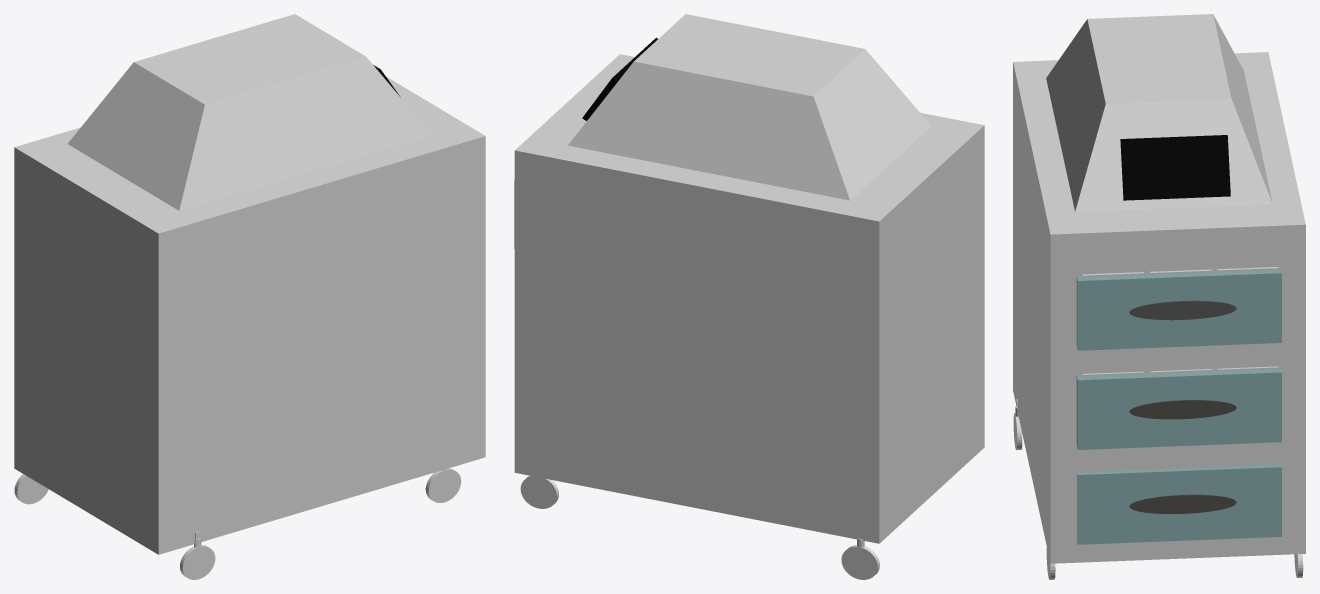
Rendered from carrello3.glb.
The picture shows the model from 3 angles, left to right: view 1: azimuth 30°, elevation 25°; view 2: azimuth 150°, elevation 25°; view 3: azimuth 270°, elevation 25°; orthographic projection. The views are drawn at different scales.
Parts seen in each view (by area): view 1: Carrello, CoperchioPiramide, RuotaCompleta4, RuotaCompleta2, RuotaCompleta3; view 2: Carrello, CoperchioPiramide, RuotaCompleta3, RuotaCompleta1; view 3: Carrello, CoperchioPiramide, Cassetto3, Cassetto2, Cassetto1, TabletIncastro, Maniglia2, Maniglia1, Maniglia3.
Part boxes in pixels (left/top/right/bottom): Carrello: left=14, top=76, right=485, bottom=554; CoperchioPiramide: left=68, top=14, right=431, bottom=210; RuotaCompleta4: left=180, top=531, right=215, bottom=579; RuotaCompleta2: left=425, top=468, right=461, bottom=502; RuotaCompleta3: left=14, top=474, right=48, bottom=504; Carrello: left=514, top=54, right=984, bottom=543; CoperchioPiramide: left=568, top=14, right=931, bottom=200; RuotaCompleta3: left=841, top=538, right=879, bottom=579; RuotaCompleta1: left=520, top=475, right=558, bottom=508; Carrello: left=1013, top=52, right=1305, bottom=563; CoperchioPiramide: left=1046, top=14, right=1272, bottom=211; Cassetto3: left=1076, top=268, right=1281, bottom=350; Cassetto2: left=1076, top=367, right=1281, bottom=449; Cassetto1: left=1077, top=464, right=1281, bottom=544; TabletIncastro: left=1120, top=135, right=1230, bottom=200; Maniglia2: left=1129, top=400, right=1236, bottom=419; Maniglia1: left=1129, top=494, right=1236, bottom=514; Maniglia3: left=1129, top=300, right=1236, bottom=320.
Size of the model in its own units: 1.72 by 1.95 by 1.14.
